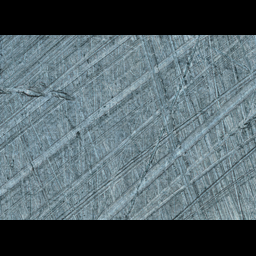d: (0, 79, 77, 105)
